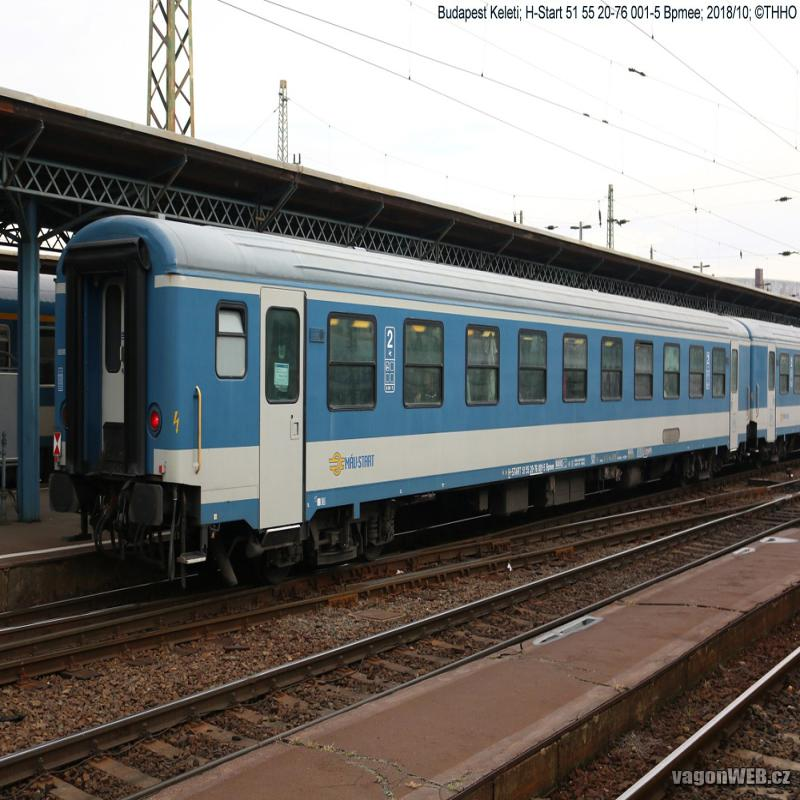train: (52, 212, 752, 622), (730, 317, 800, 476)
